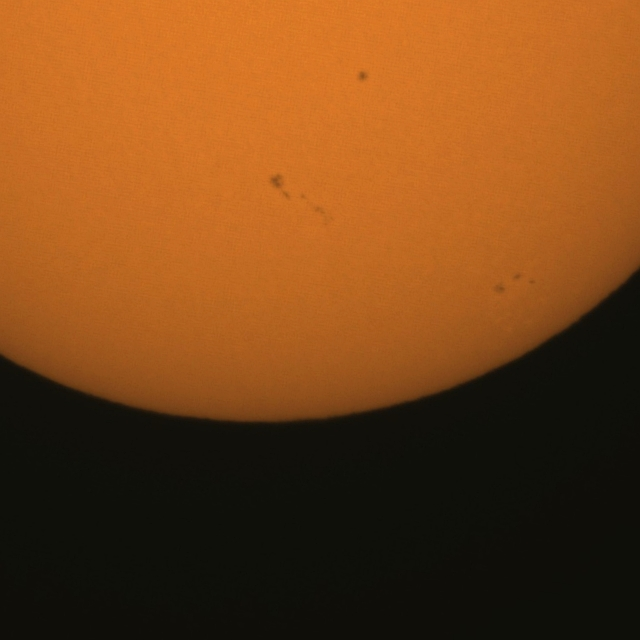sunspot: (263, 173, 314, 206), (266, 172, 291, 202), (356, 69, 370, 84), (493, 283, 507, 295), (528, 278, 536, 285)
